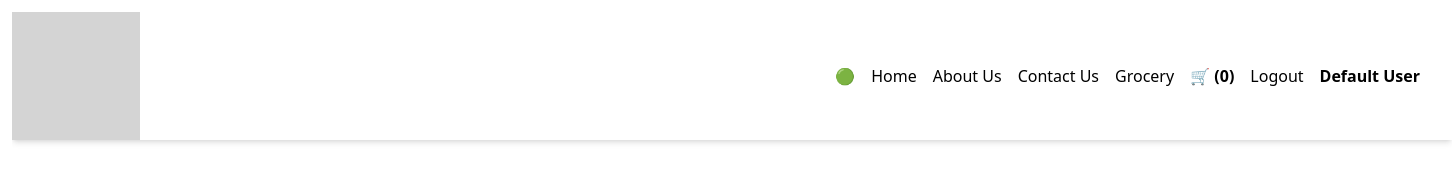
Header components tests › should change login button to logout when clicked
What coordinates should you click on to do the following:
click the button "Logout"
I would click on:
 (1277, 76)
Its box is [1250, 64, 1304, 88].
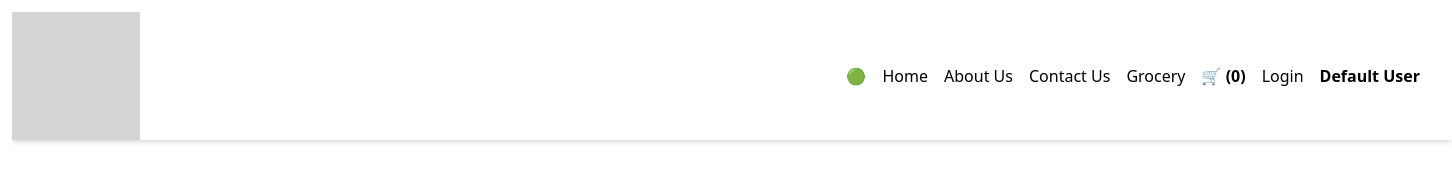
Now the button "Login" is shown, box [1262, 64, 1304, 88]
